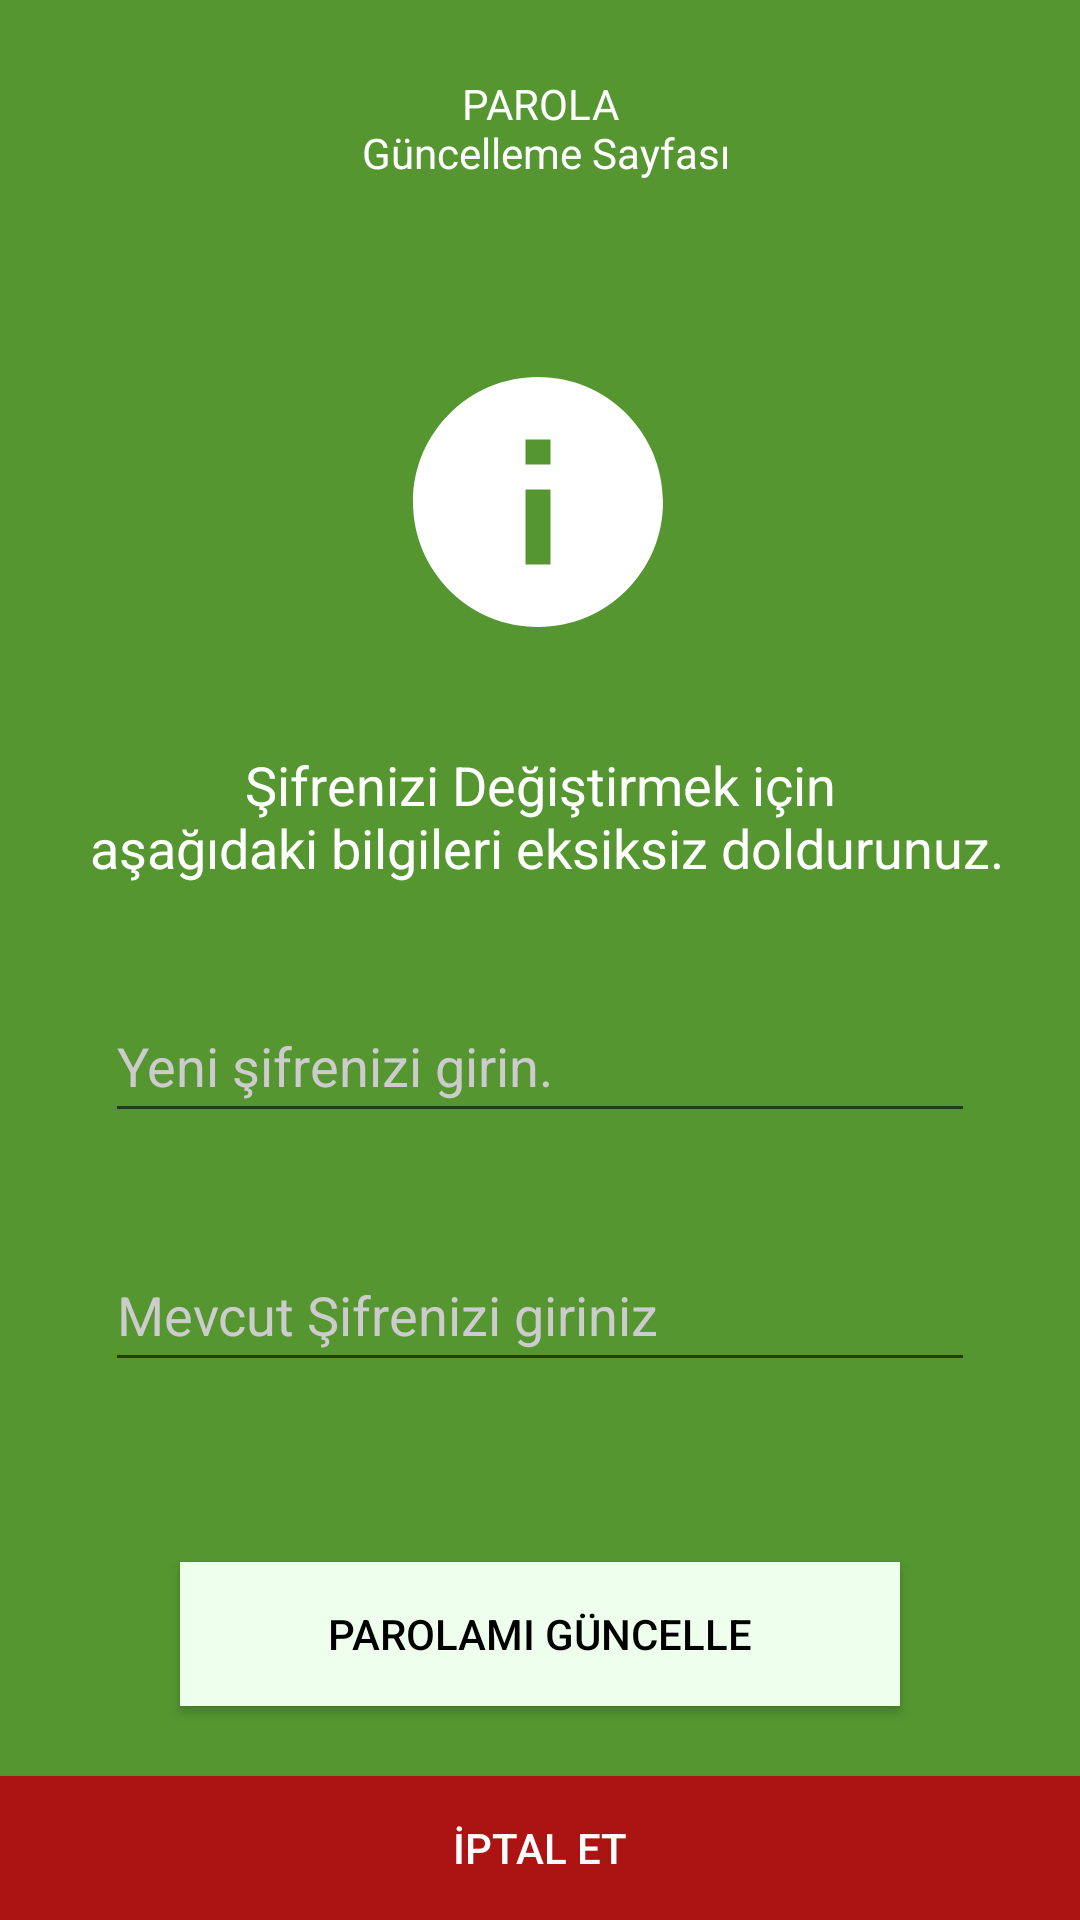

Icons on this 1080px×1920px Android screen, each with the point to tap as point (x, y):
info: point (538, 502)
